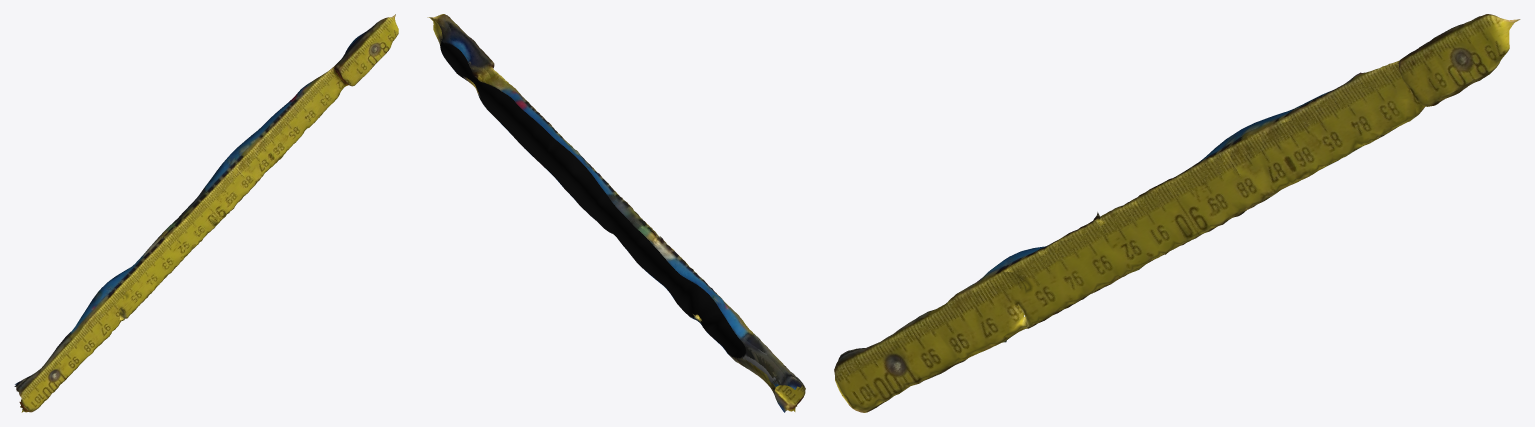
The model's file is fr_right.dae.
3 views of the same model, side by side, from view 1: azimuth 30°, elevation 25°; view 2: azimuth 150°, elevation 25°; view 3: azimuth 330°, elevation 25° (orthographic). The views are drawn at different scales.
Visible parts, largest first — view 1: foldingrule_002; view 2: foldingrule_002; view 3: foldingrule_002.
Part boxes in pixels (left/top/right/bottom): foldingrule_002: left=14, top=14, right=398, bottom=412; foldingrule_002: left=427, top=14, right=805, bottom=412; foldingrule_002: left=834, top=14, right=1520, bottom=412.
Bounding box in the file's own units: 0.1609 × 0.00803 × 0.1258.
Materials: 1 (1 with a texture image).
